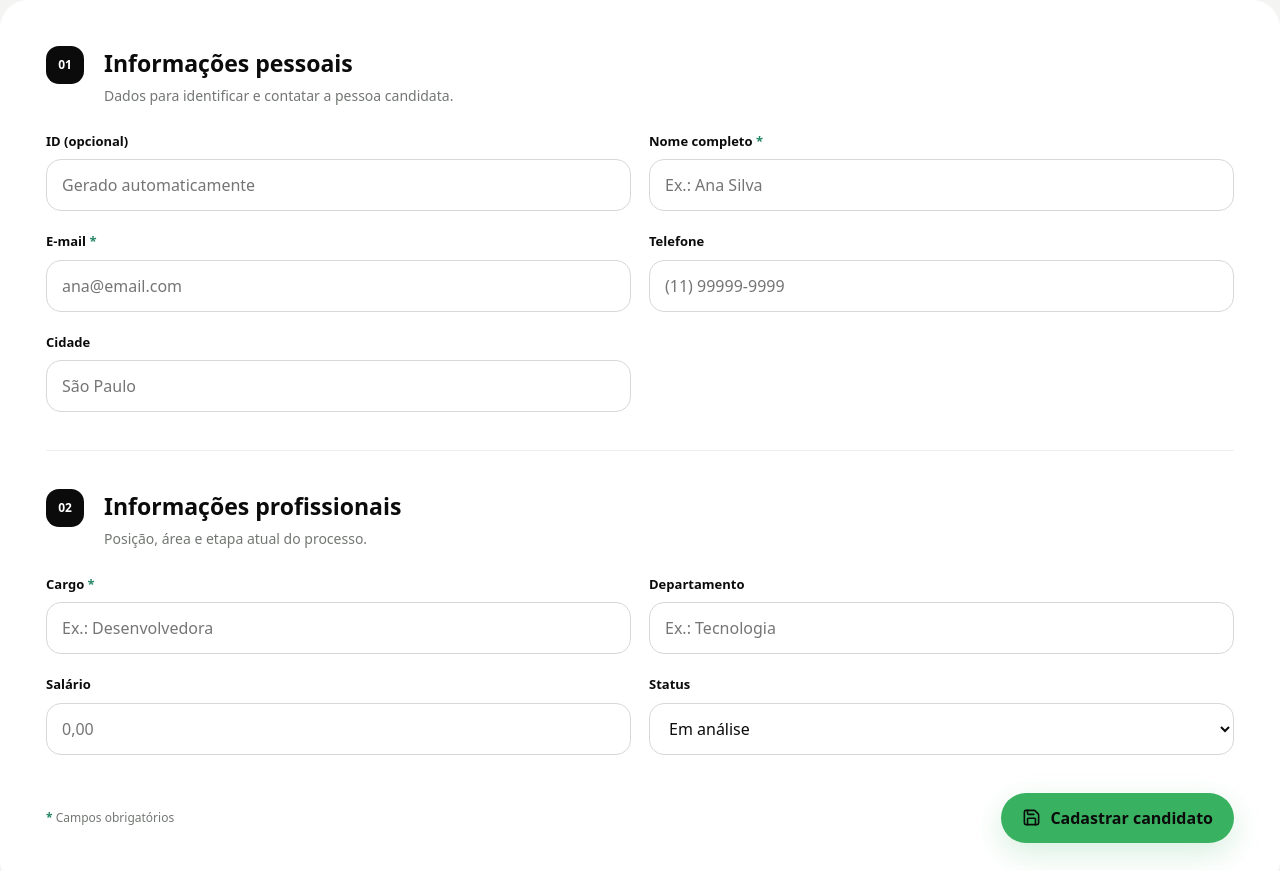
Test: EmployeeForm › valida os campos obrigatórios antes de enviar
The image size is (1280, 871).
Click the button "Cadastrar candidato" at [1118, 818], box [1001,792,1234,842]
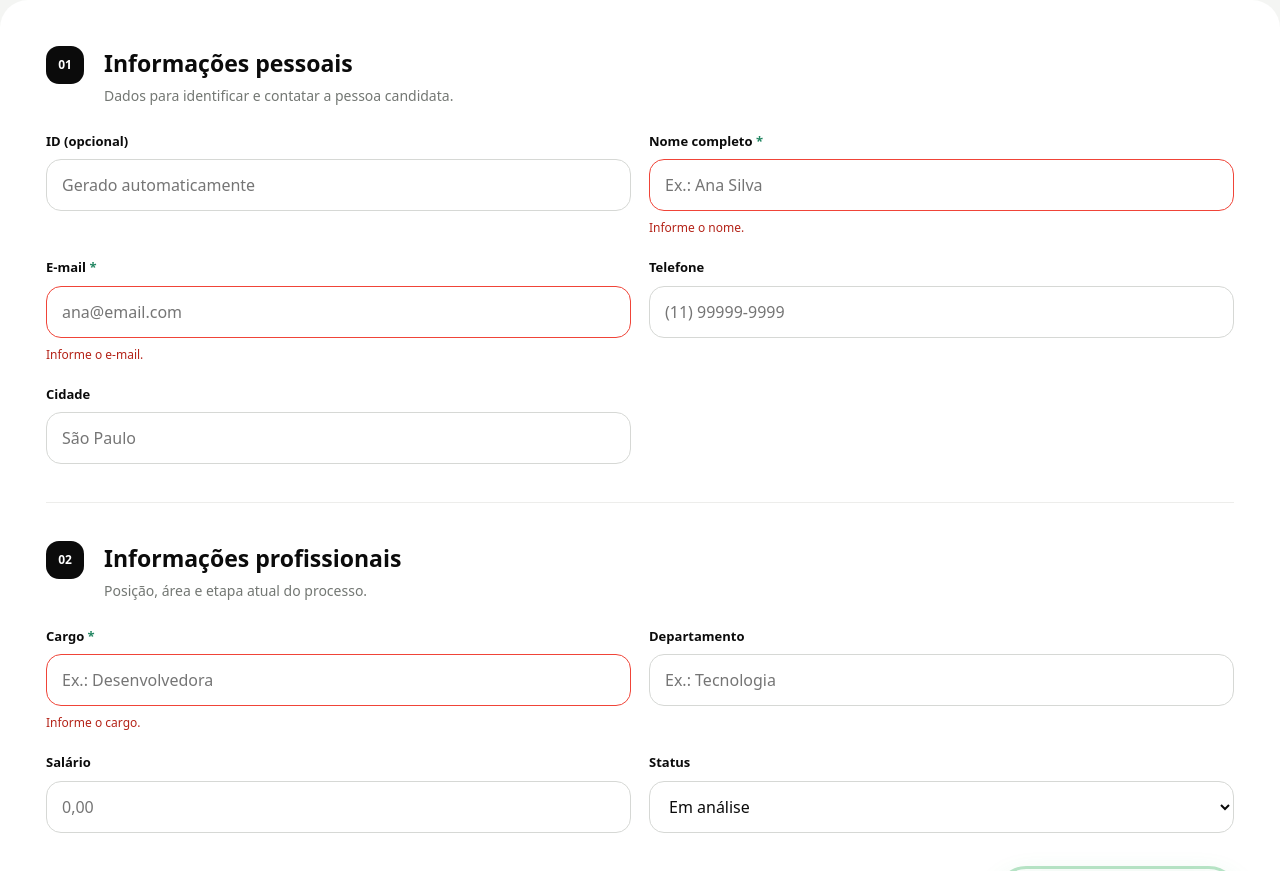
Check: the text "Informe o nome." is shown, box [649,219,744,236]
Check: the text "Informe o e-mail." is shown, box [46,346,143,362]
Check: the text "Informe o cargo." is shown, box [46,714,140,731]
